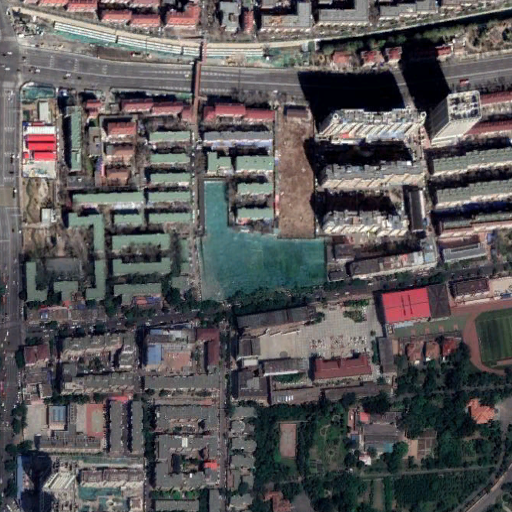cw: (193, 182, 324, 305)
